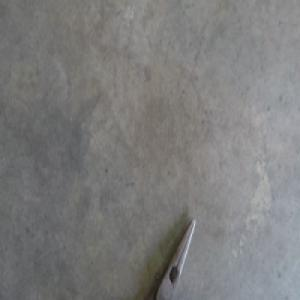Pliers: (146, 217, 195, 299)
